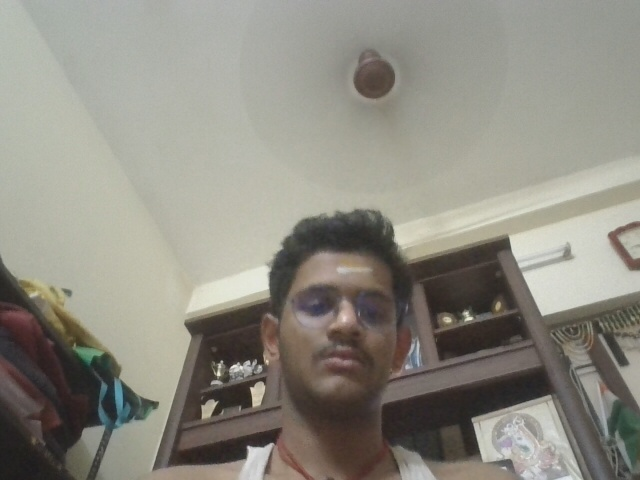real: (268, 243, 420, 395)
